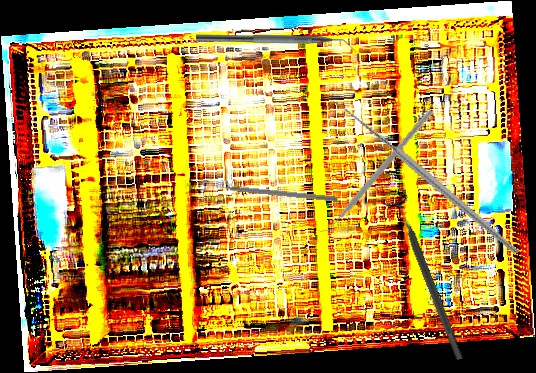Chopper: (312, 96, 434, 246), (206, 176, 340, 202), (196, 34, 356, 53)
Fixation Ring: (382, 193, 473, 365)
Hook Surgical: (323, 60, 520, 298)
